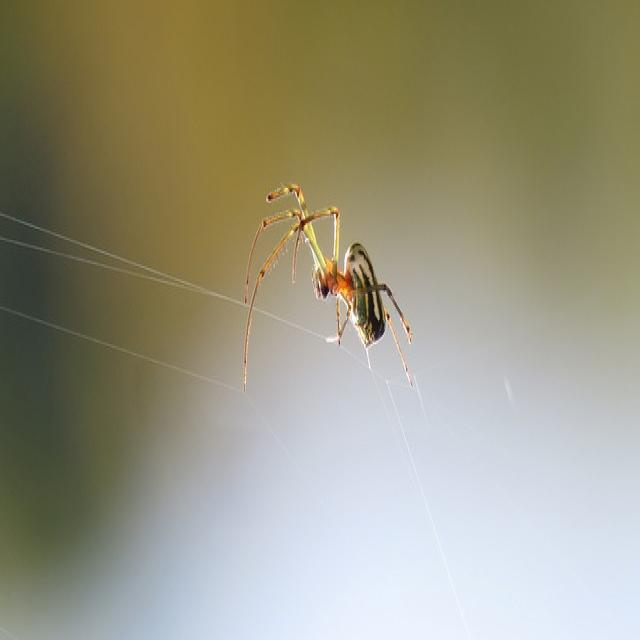spyder: (245, 184, 411, 383)
